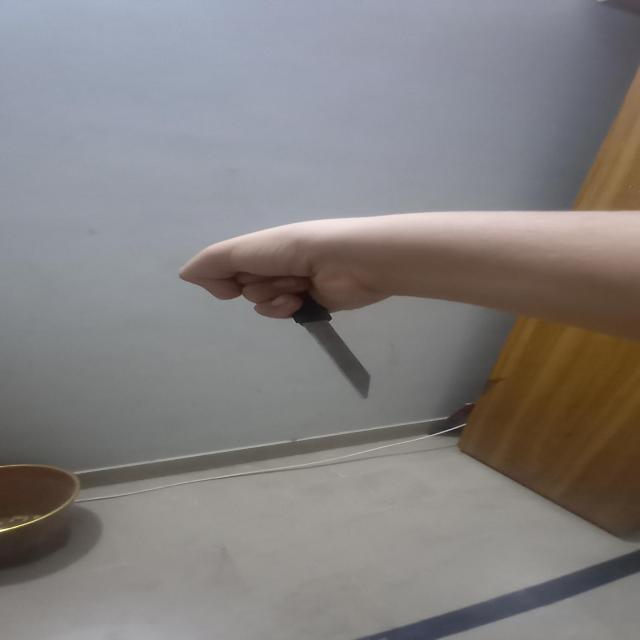Knife: (296, 292, 374, 398)
Person: (175, 210, 640, 340)
